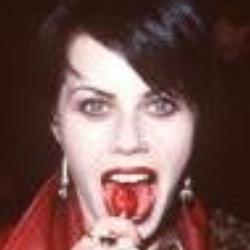face: (28, 8, 220, 241)
